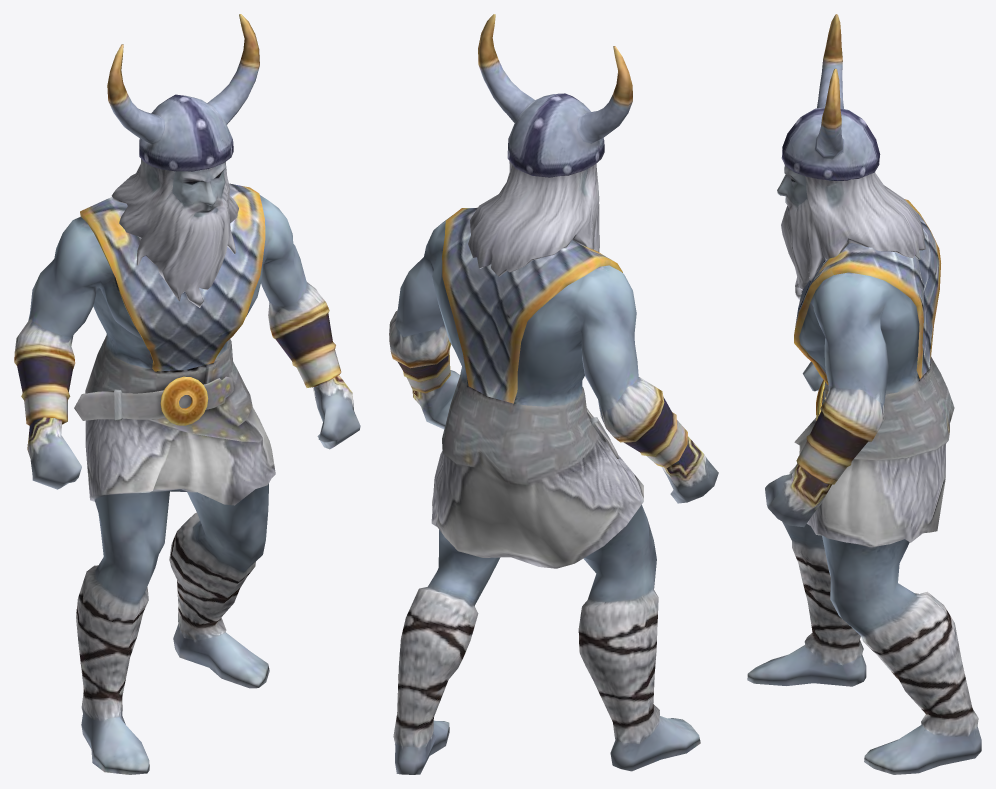
File: body-rime.glb
3 views of the same model, side by side, from view 1: azimuth 30°, elevation 25°; view 2: azimuth 150°, elevation 25°; view 3: azimuth 270°, elevation 25° (orthographic). The views are drawn at different scales.
Bounding box in the file's own units: 2.73 × 5.97 × 1.87.
1 material, 1 textured.
